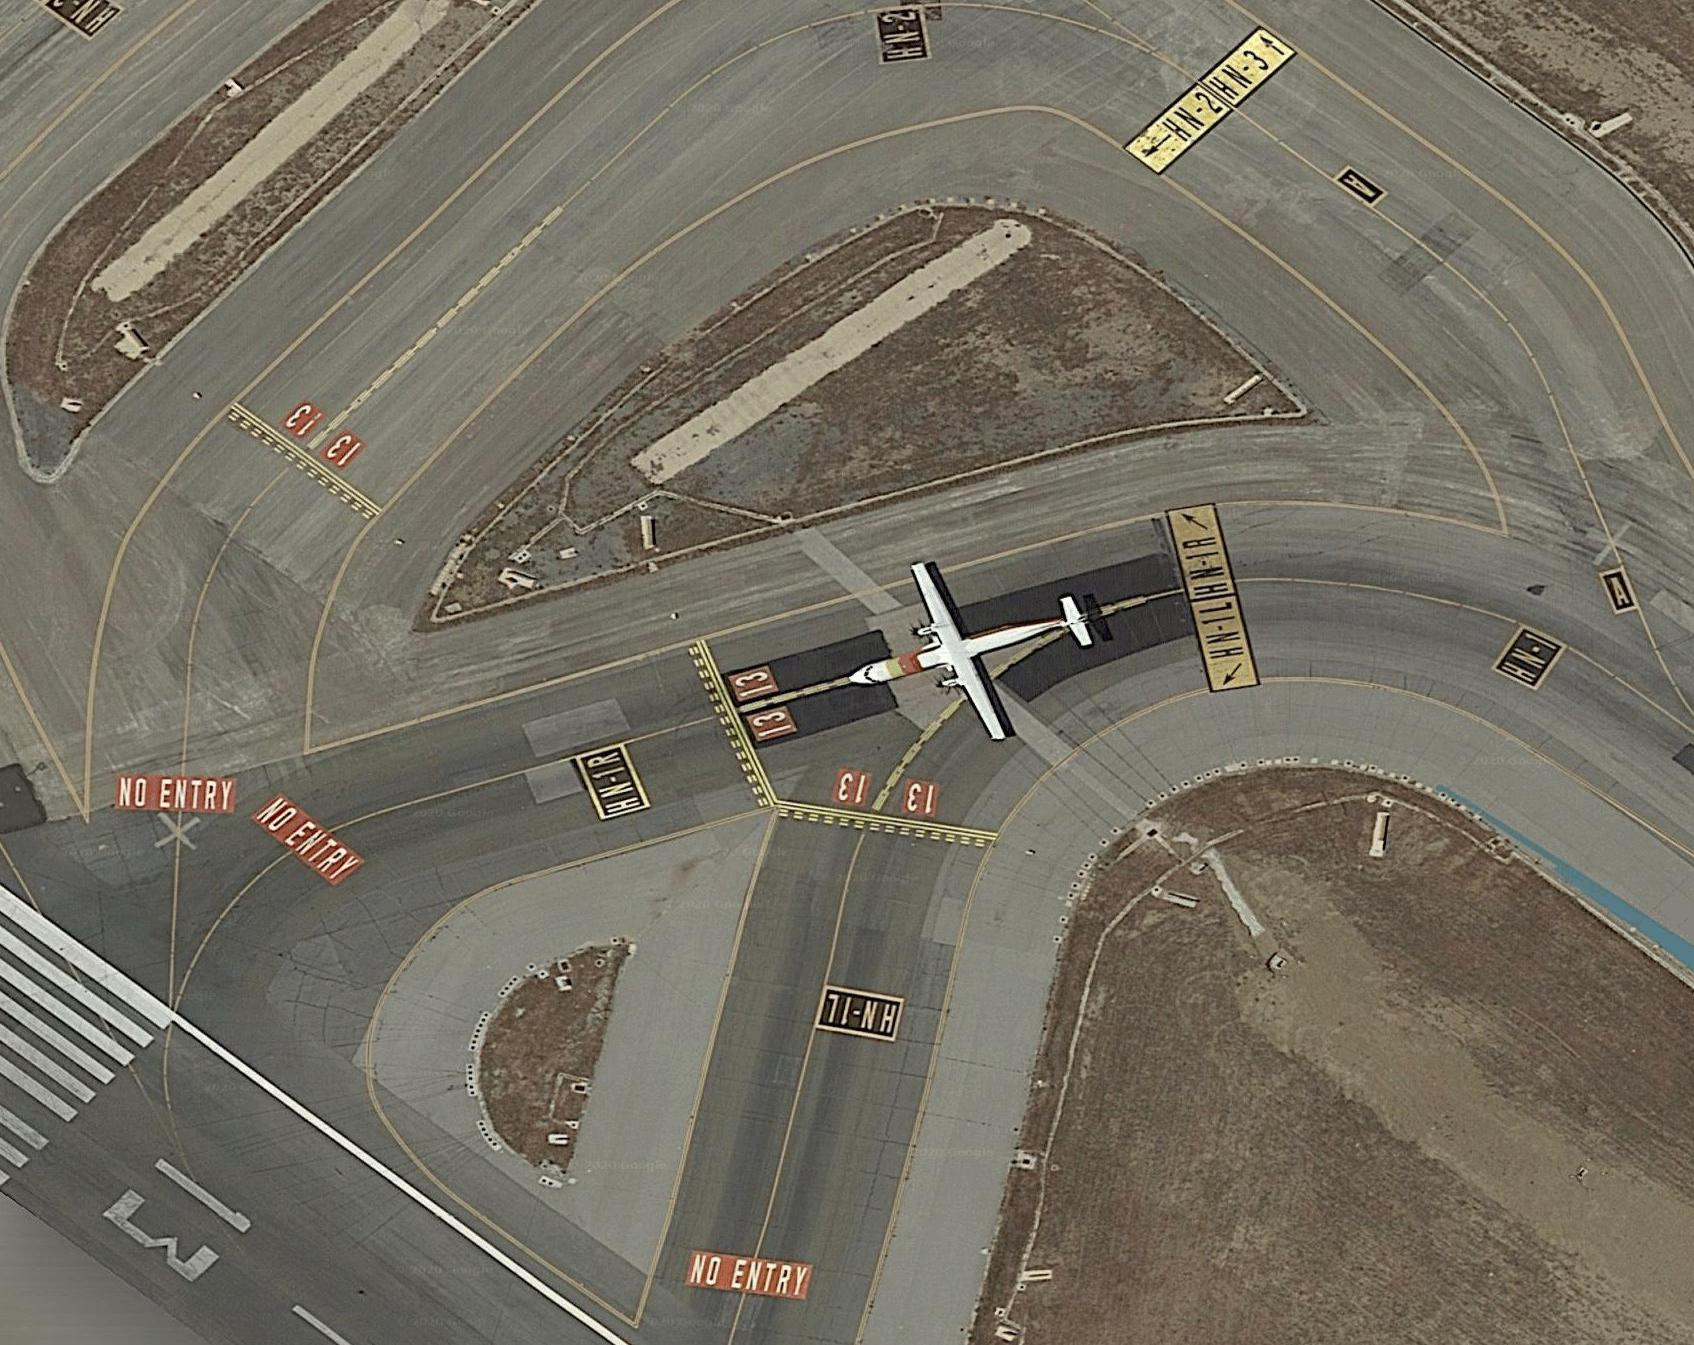plane: (792, 514, 1130, 800)
